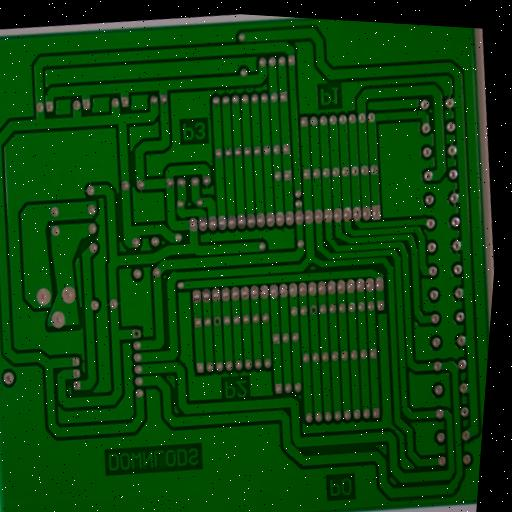missing_hole: (129, 326, 144, 342), (211, 313, 223, 330), (309, 302, 320, 317)
